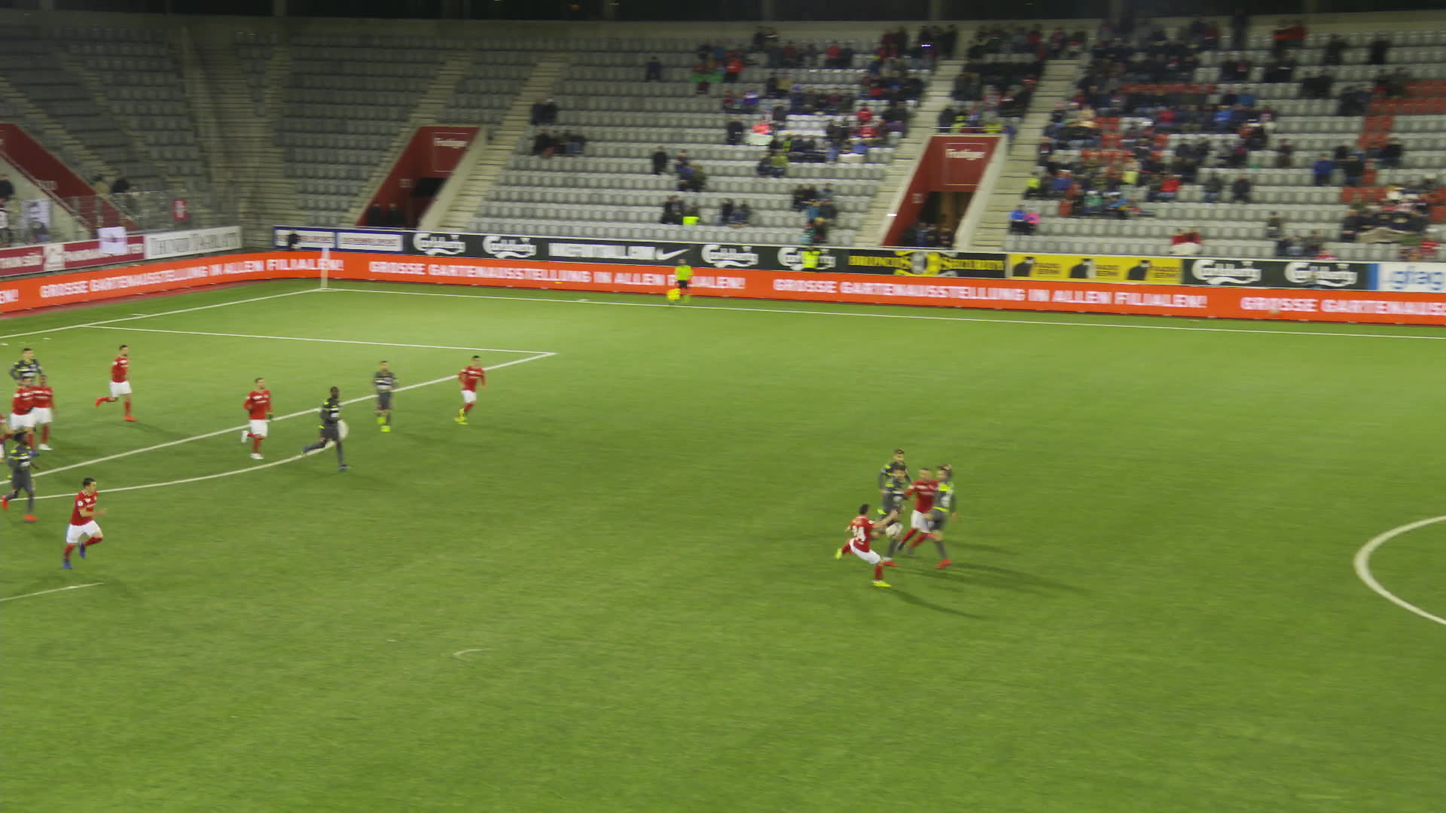ball: (892, 516, 912, 535)
player: (827, 498, 899, 592), (55, 474, 109, 573), (299, 385, 352, 472), (871, 464, 917, 562), (925, 465, 969, 565), (893, 465, 939, 556), (96, 343, 148, 423), (5, 429, 47, 521), (243, 374, 282, 461), (874, 446, 915, 526), (450, 353, 488, 427), (25, 373, 59, 451), (371, 355, 399, 434), (6, 345, 47, 388), (0, 407, 11, 465)
referee: (664, 256, 698, 306)
